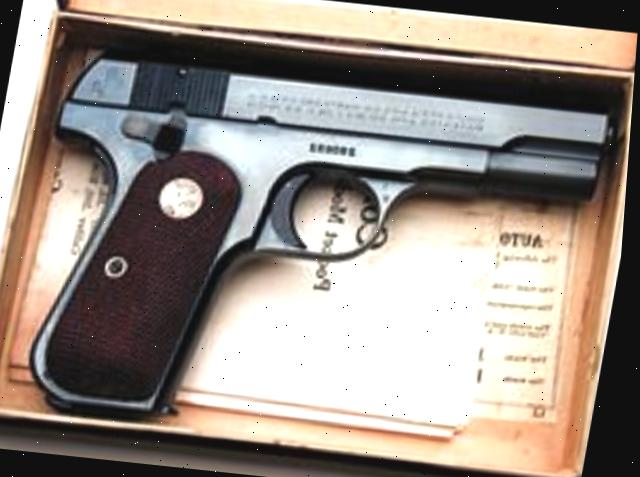pistol: (9, 47, 628, 463)
